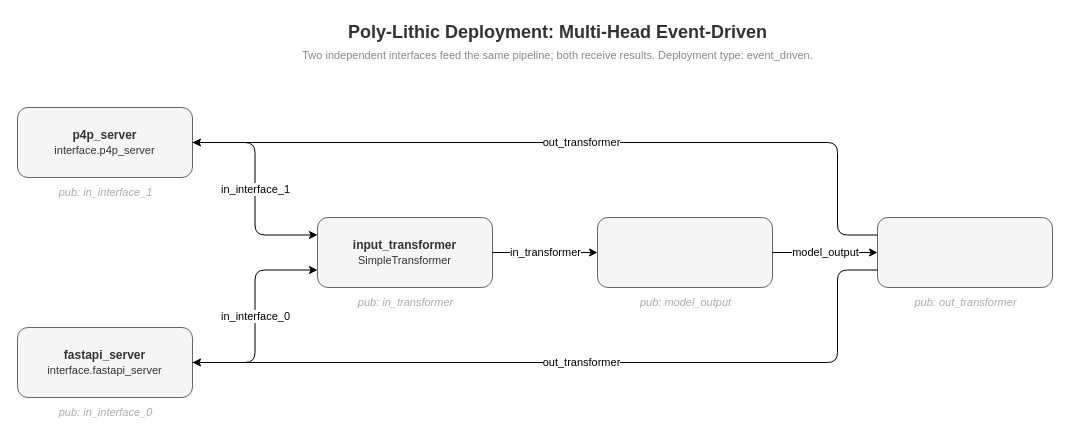
The diagram is 1070 pixels wide and 439 high, and some of its shapes have lost their labels. The shapes that lost their labels are listed below. From the top down, each one's centre as x and y in pixels, then its label:
At point 684,252: "surrogate_model Local Model".
At point 964,252: "output_transformer SimpleTransformer".
